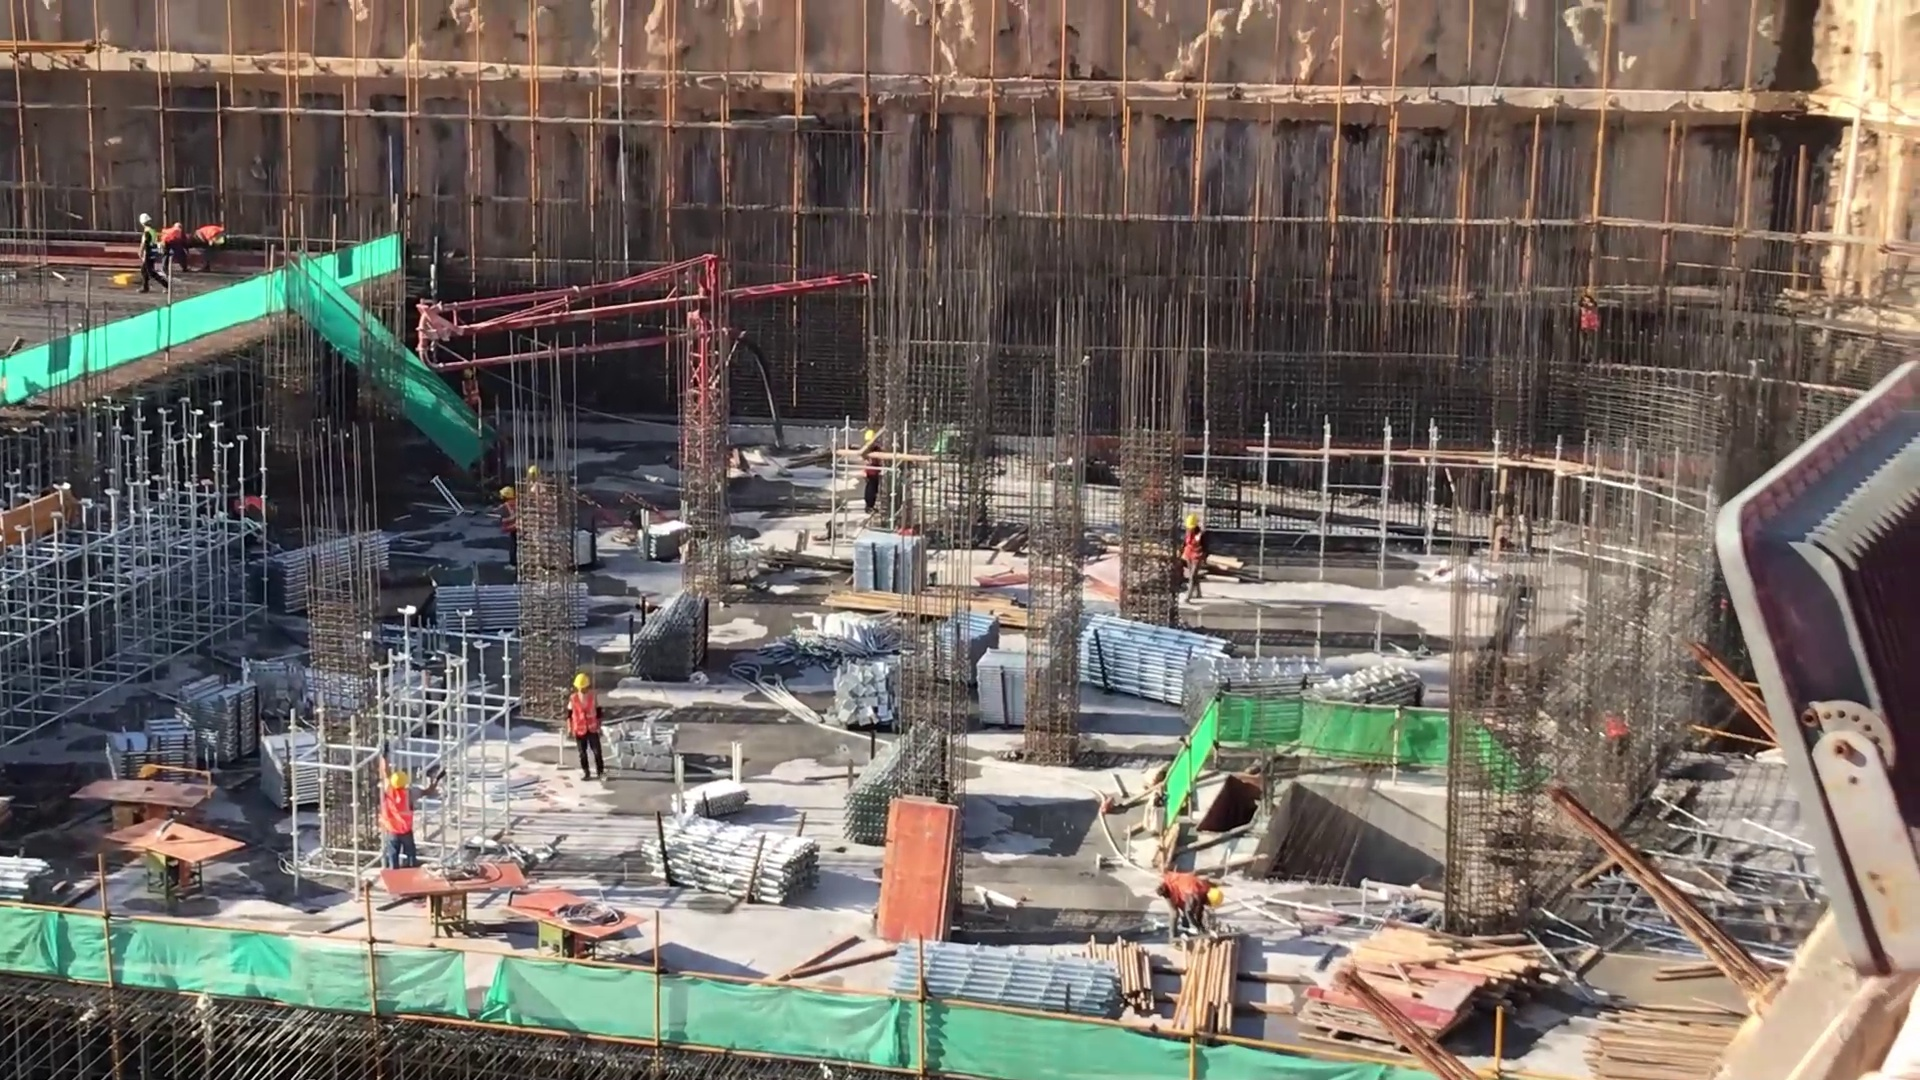board: (1294, 957, 1499, 1032), (873, 788, 962, 944)
cutter: (99, 804, 254, 909), (368, 849, 535, 943), (502, 883, 652, 977), (62, 764, 217, 840)
helmet: (386, 764, 410, 794), (495, 481, 522, 504), (575, 670, 596, 697), (1183, 509, 1205, 534), (1208, 883, 1227, 911), (859, 422, 877, 443), (139, 210, 152, 225), (462, 366, 475, 377)
person: (367, 760, 428, 885), (560, 667, 615, 787), (1151, 863, 1225, 944), (1173, 515, 1211, 623), (130, 202, 167, 304), (491, 480, 522, 572), (859, 422, 884, 531), (188, 217, 232, 276), (159, 216, 193, 278), (456, 360, 482, 430)
scaffold: (884, 926, 1146, 1033), (647, 801, 835, 924), (1074, 611, 1253, 713), (1170, 644, 1328, 746), (1297, 658, 1429, 777), (259, 523, 396, 616), (426, 578, 596, 635), (633, 595, 730, 685), (106, 720, 199, 802), (175, 673, 260, 761), (267, 724, 334, 824), (933, 613, 1007, 690), (13, 856, 77, 920)
vest: (1156, 866, 1210, 917), (382, 788, 418, 841), (566, 694, 603, 742), (1180, 528, 1205, 568), (497, 500, 522, 535), (196, 223, 224, 246), (141, 229, 156, 264), (461, 378, 479, 407), (164, 226, 179, 243)
wood: (1575, 1006, 1762, 1080)
